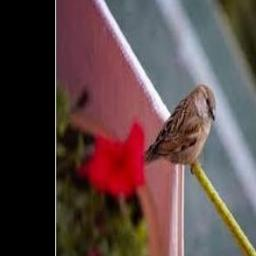Sparrow: (143, 84, 217, 175)
